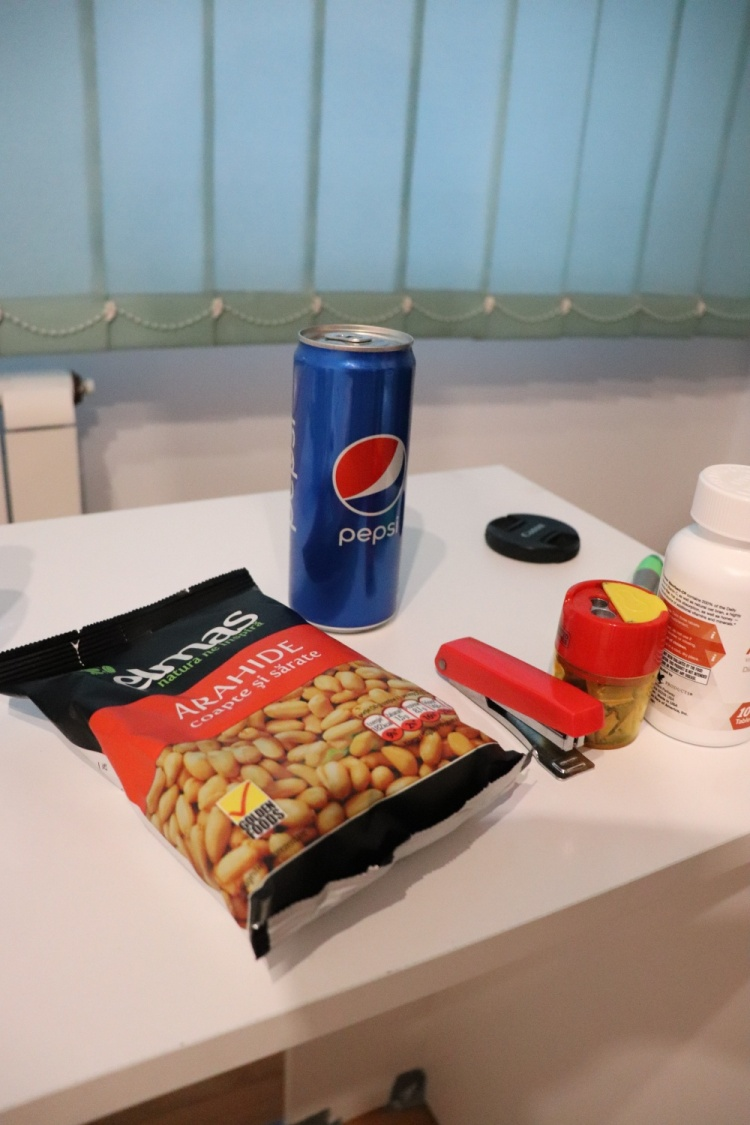peanuts: (31, 567, 532, 947)
pepsi: (265, 316, 420, 631)
